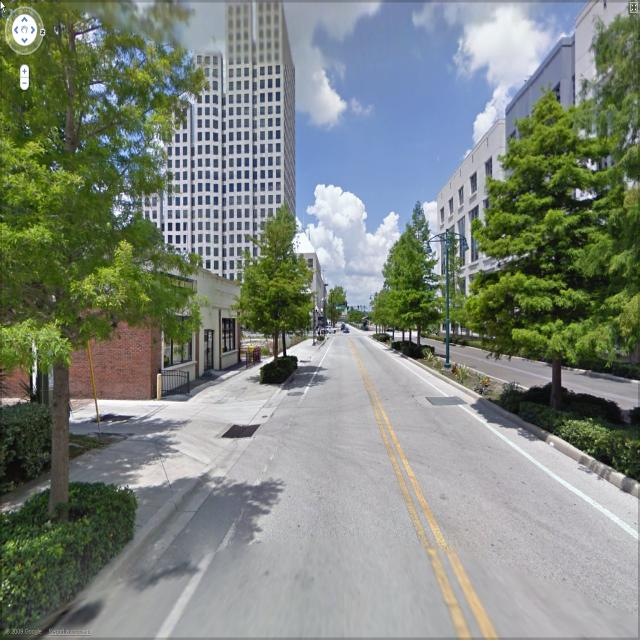b_1: (152, 2, 298, 250)
b_2: (427, 17, 640, 350), (8, 247, 266, 409), (250, 249, 325, 355)
